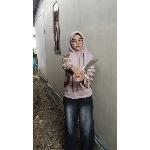Pisau: (74, 58, 102, 77)
